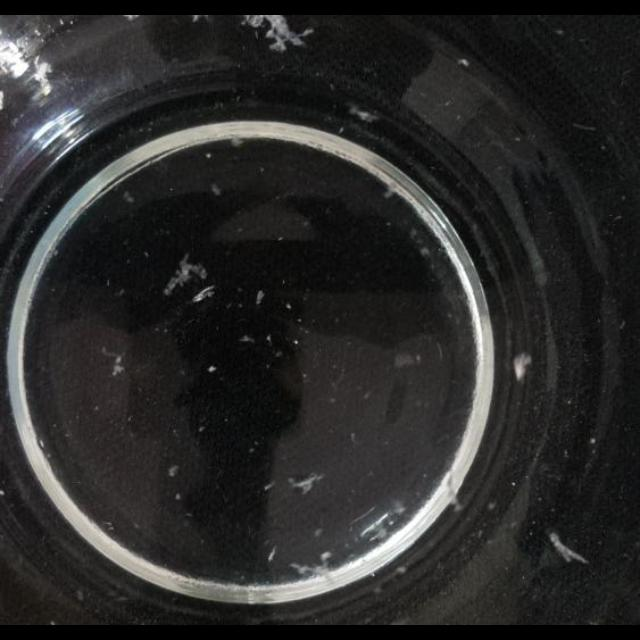Fibre: (248, 15, 312, 51), (164, 252, 208, 294), (548, 532, 590, 566), (100, 344, 126, 378), (288, 560, 330, 580), (286, 472, 324, 494), (513, 352, 533, 382), (346, 105, 374, 123), (210, 184, 222, 196)
microbeads: (452, 492, 466, 512), (319, 550, 331, 562), (102, 520, 114, 532), (168, 464, 178, 478), (240, 334, 254, 344), (314, 526, 324, 538), (458, 58, 470, 68), (420, 246, 430, 258), (350, 431, 358, 443), (488, 500, 497, 510), (207, 365, 217, 373), (274, 349, 282, 357), (39, 438, 45, 448), (619, 320, 625, 330), (198, 426, 205, 434), (175, 493, 182, 501), (590, 437, 596, 445), (286, 303, 292, 311), (204, 152, 212, 158), (510, 480, 516, 488), (292, 339, 298, 346)
